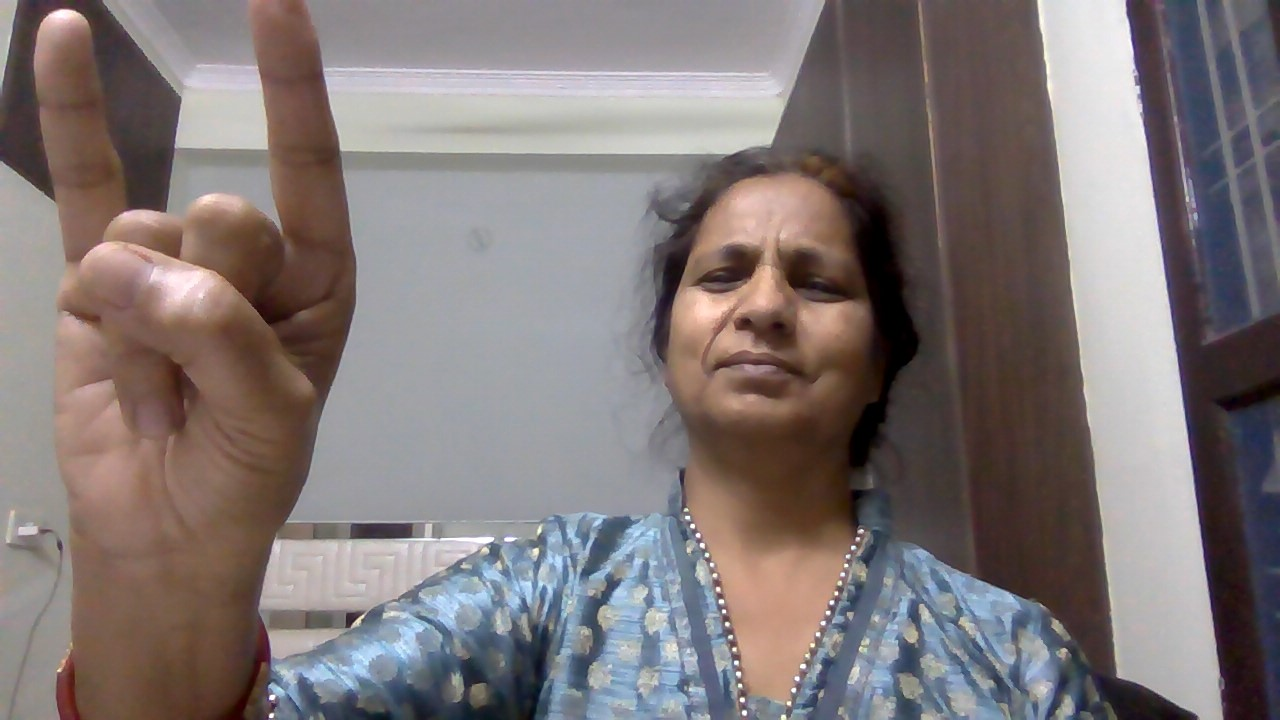Select All: (10, 2, 377, 567)
